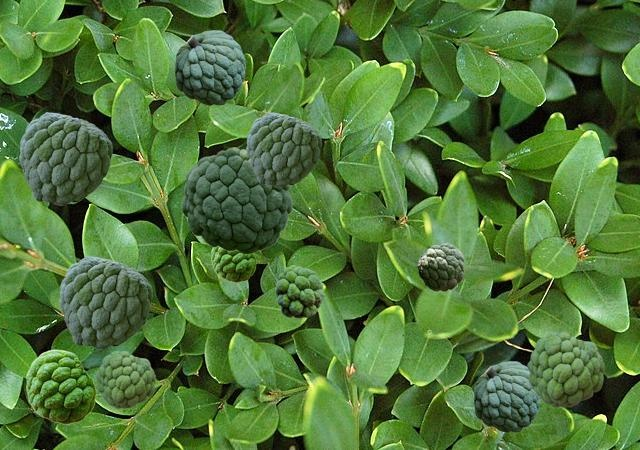atis: (181, 147, 291, 253), (19, 112, 111, 204), (59, 256, 151, 348), (527, 332, 603, 406), (246, 112, 320, 186), (175, 30, 244, 104), (26, 349, 95, 423), (474, 361, 539, 431), (96, 351, 154, 407), (275, 265, 323, 317), (417, 243, 463, 290), (211, 247, 255, 281)
